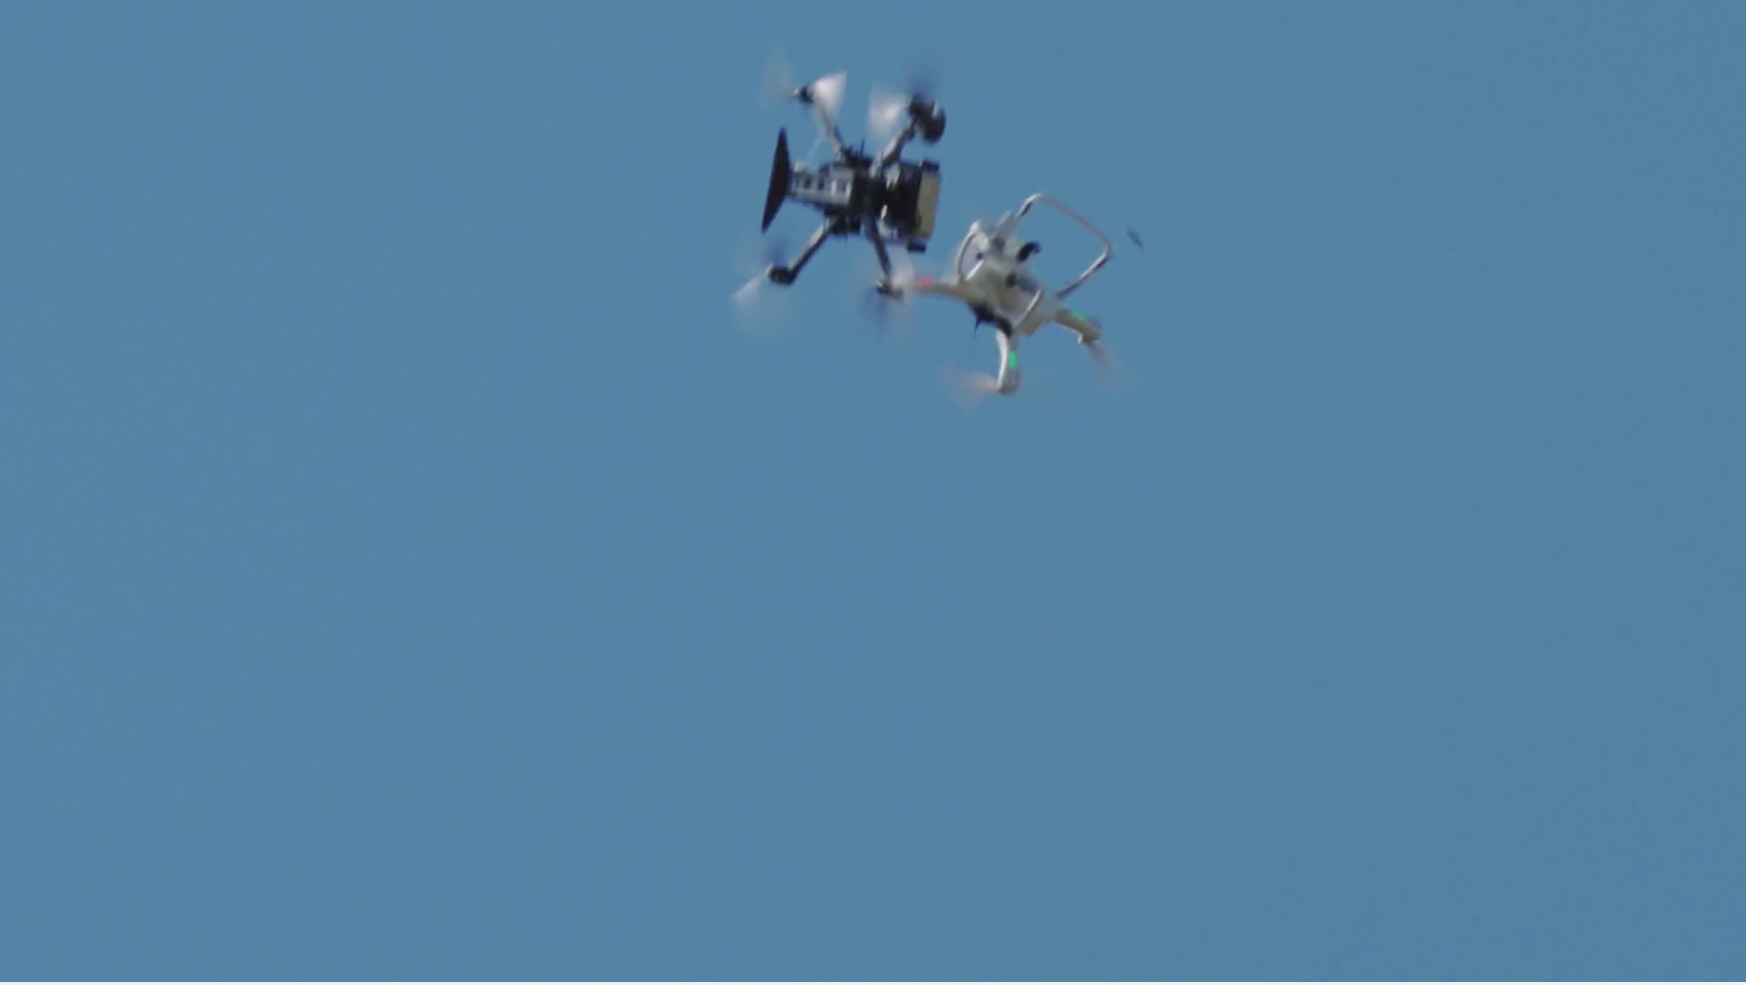drone: (721, 48, 950, 342), (913, 182, 1132, 418)
